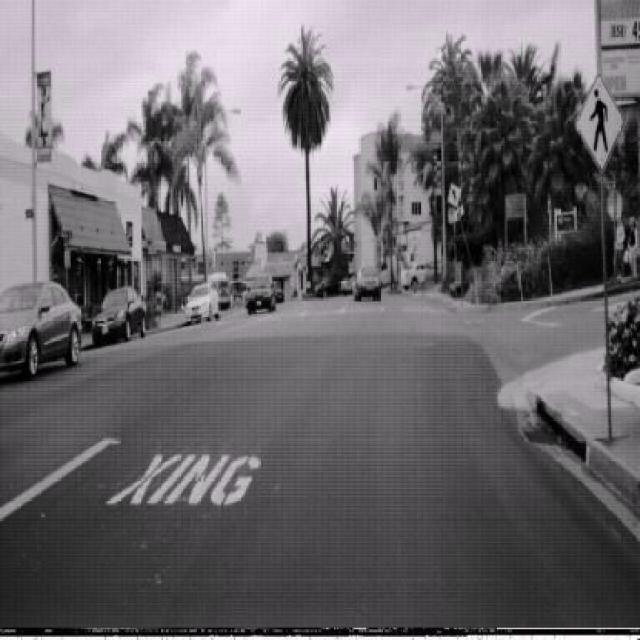pedestrianCrossing: (576, 71, 626, 174), (448, 181, 462, 207)
